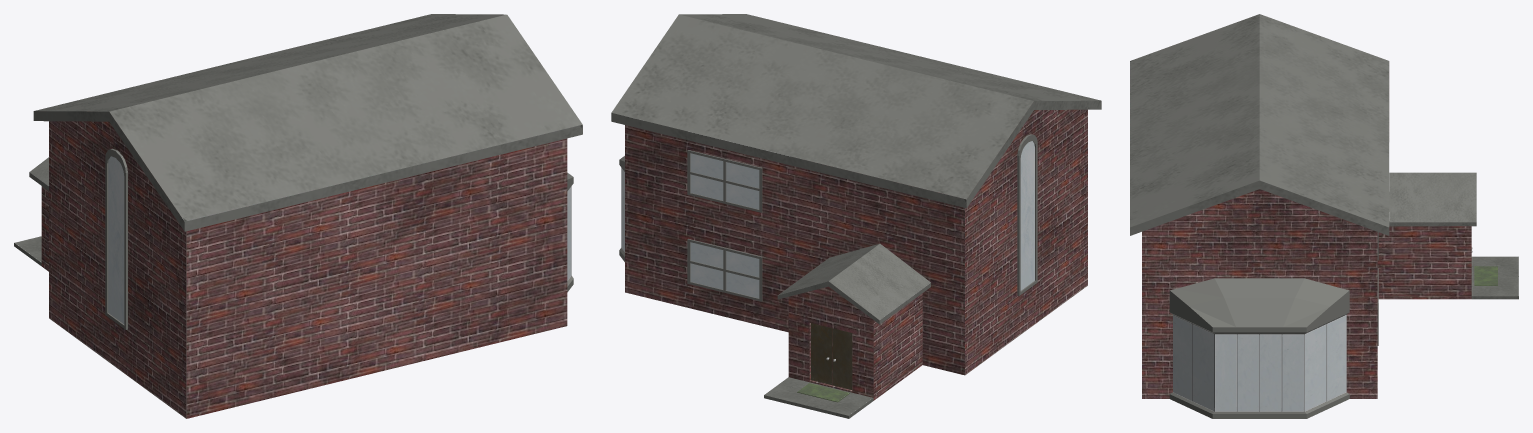
File: farmhouse.obj
3 renders of one model, left to right at view 1: azimuth 30°, elevation 25°; view 2: azimuth 150°, elevation 25°; view 3: azimuth 270°, elevation 25°, orthographic. The views are drawn at different scales.
Parts seen in each view (by area): view 1: Cube.001; view 2: Cube.001; view 3: Cube.001.
Boxes of the visible parts, x1=… form: Cube.001: x1=14, y1=14, x2=582, y2=418; Cube.001: x1=611, y1=14, x2=1101, y2=418; Cube.001: x1=1130, y1=14, x2=1518, y2=418.
Size of the model in its own units: 36.72 by 20.8 by 33.
